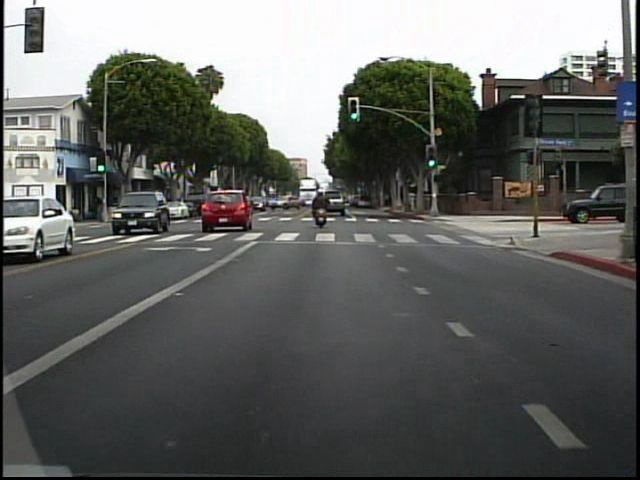person: (312, 184, 339, 231)
